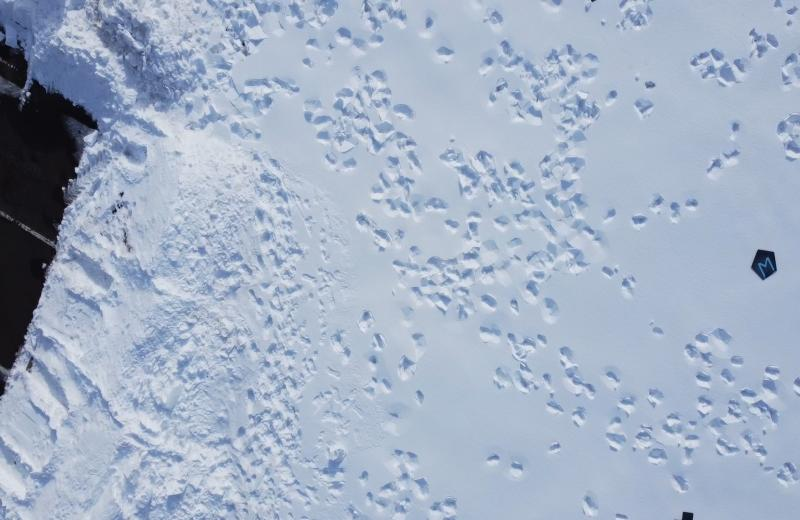Pentagon: (752, 249, 778, 282)
